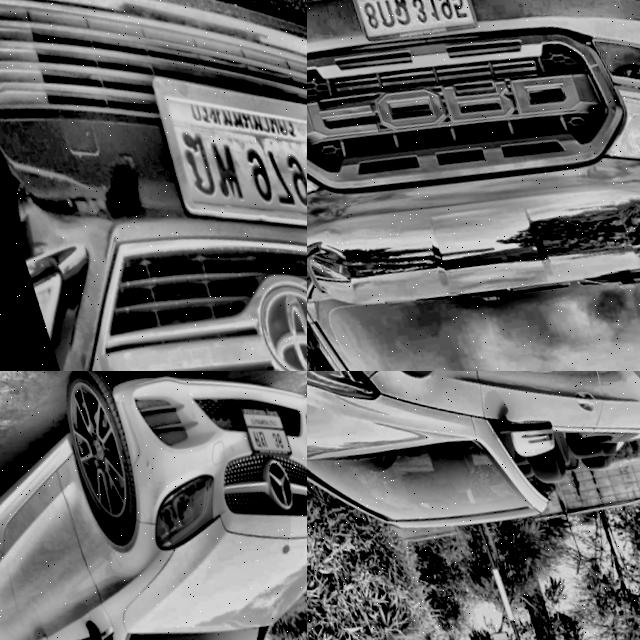license-plate: (132, 28, 307, 258), (336, 0, 477, 47), (235, 388, 295, 456)
